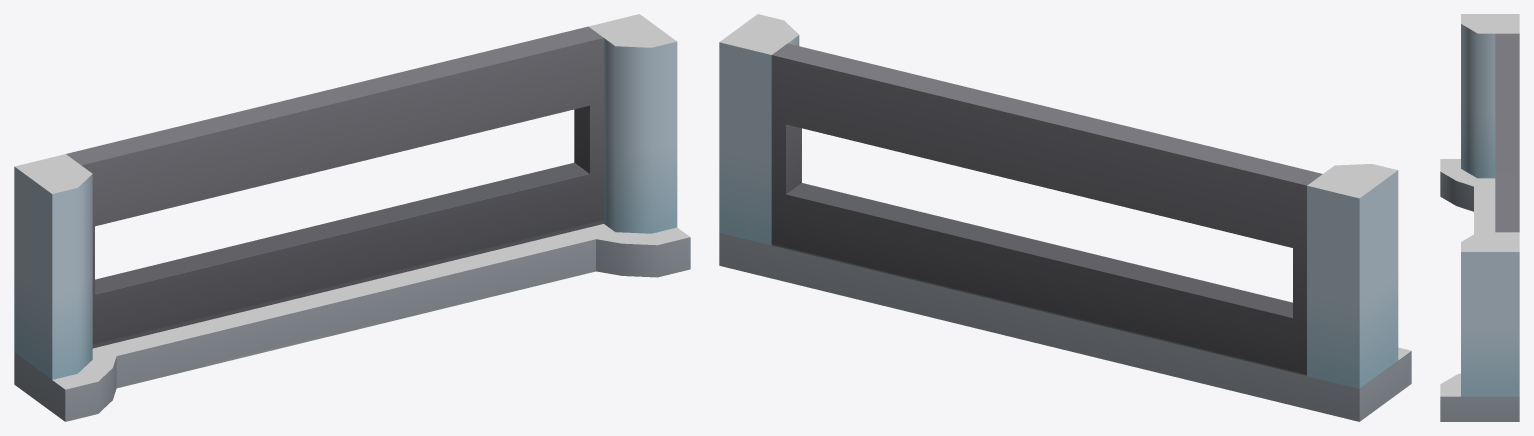
The model's file is parkinghouse_segment1.fbx.
3 renders of one model, left to right at view 1: azimuth 30°, elevation 25°; view 2: azimuth 150°, elevation 25°; view 3: azimuth 270°, elevation 25°, orthographic. The views are drawn at different scales.
Parts seen in each view (by area): view 1: parkinghouse_segment1; view 2: parkinghouse_segment1; view 3: parkinghouse_segment1.
Boxes of the visible parts, left/top/right/bottom form: parkinghouse_segment1: left=14, top=14, right=690, bottom=421; parkinghouse_segment1: left=719, top=14, right=1411, bottom=421; parkinghouse_segment1: left=1440, top=14, right=1519, bottom=421.
Size of the model in its own units: 12 by 4 by 1.69.
